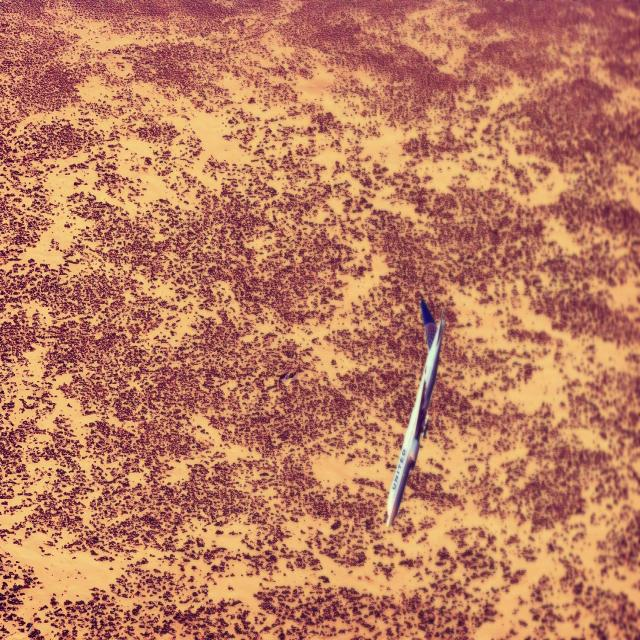airplane: (385, 297, 445, 528)
